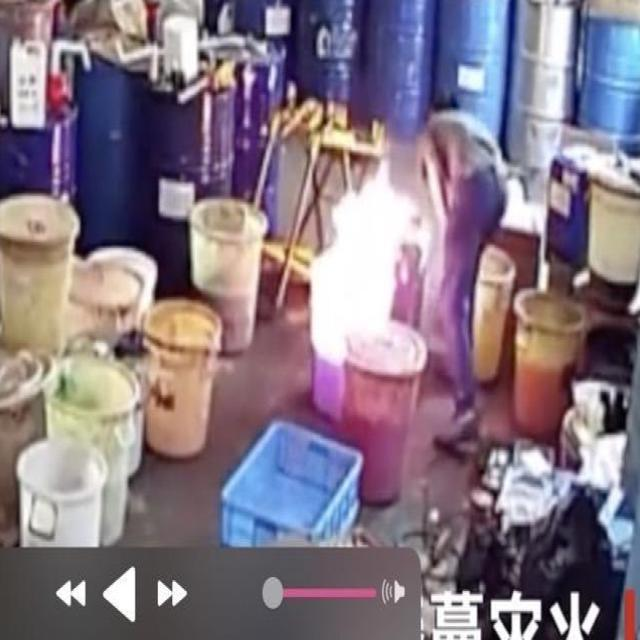smoke: (306, 160, 412, 370)
